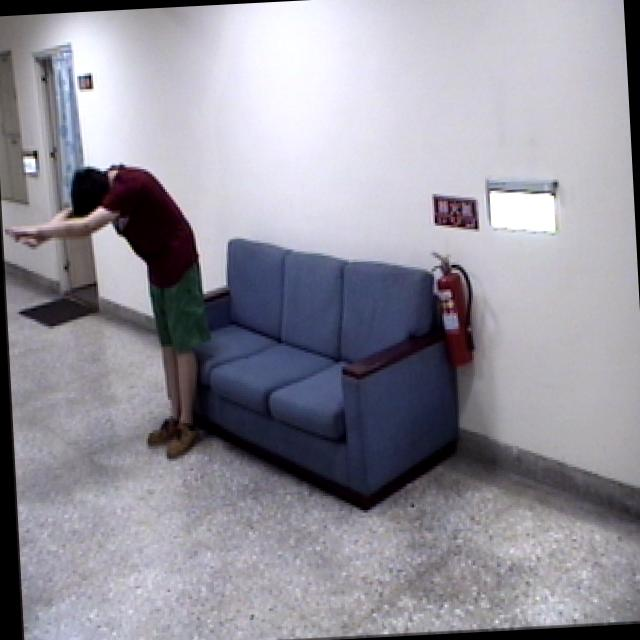bend: (0, 154, 219, 479)
